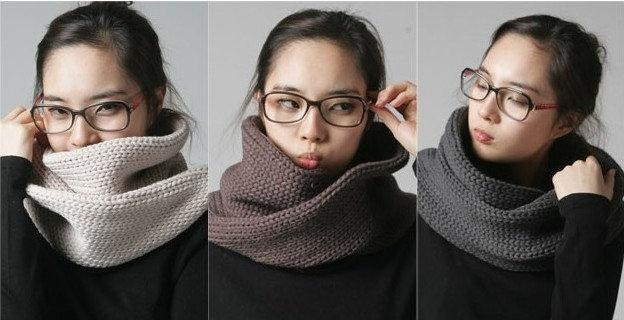NONE: (263, 84, 368, 189), (465, 64, 549, 162)
WRONG: (36, 84, 138, 186)
